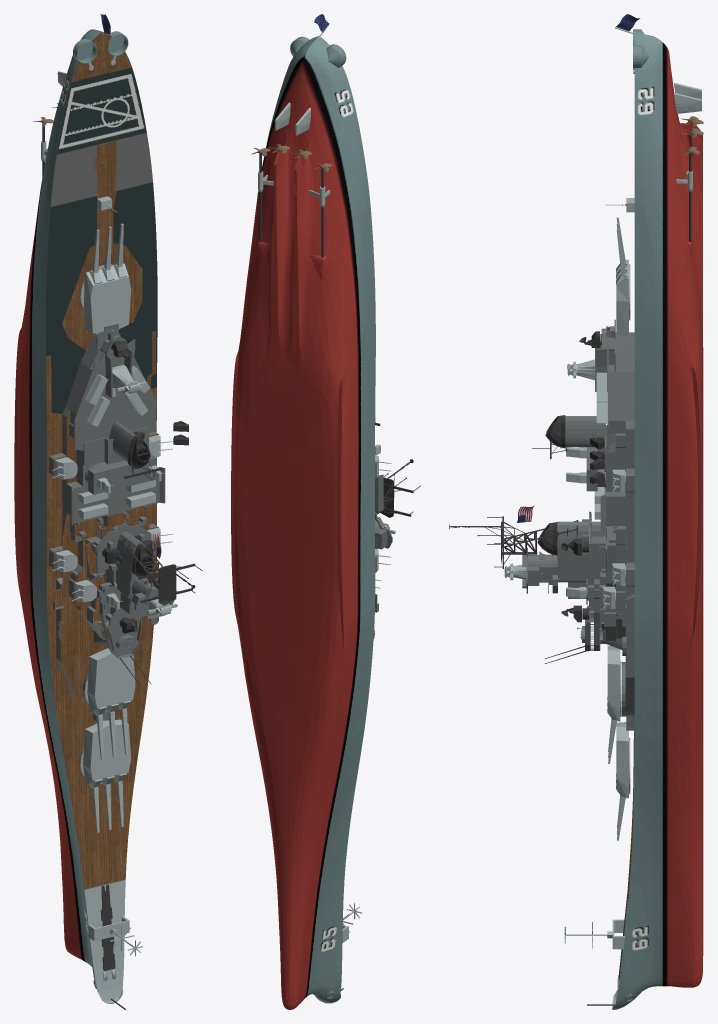
The model's file is battleship.obj.
The picture shows the model from 3 angles, left to right: view 1: azimuth 30°, elevation 25°; view 2: azimuth 150°, elevation 25°; view 3: azimuth 270°, elevation 25°; orthographic projection.
Parts seen in each view (by area): view 1: NCubHel, NCasco, NCubMad, NCastillo, nterr4, NCubiert, NCanCue04, NCanCue03, NCanCue2, Nestr01, NCanCan08, NCasLat1 (+12 smaller); view 2: NCasco, NBasCas01, NCasLat1, NCaLat, NCastillo, Nestr01; view 3: NCasco, NCastillo, NCaLat, NCanCue03, NCanCue2, Nestr01, NCanCue04.
Boxes of the visible parts, x1=… form: NCubHel: x1=46, y1=67, x2=157, y2=413; NCasco: x1=17, y1=29, x2=128, y2=1002; NCubMad: x1=46, y1=32, x2=156, y2=889; NCastillo: x1=49, y1=324, x2=174, y2=721; nterr4: x1=53, y1=505, x2=158, y2=696; NCubiert: x1=84, y1=880, x2=125, y2=1001; NCanCue04: x1=80, y1=263, x2=131, y2=333; NCanCue03: x1=84, y1=648, x2=135, y2=713; NCanCue2: x1=80, y1=719, x2=131, y2=785; Nestr01: x1=121, y1=536, x2=202, y2=605; NCanCan08: x1=89, y1=223, x2=126, y2=284; NCasLat1: x1=14, y1=328, x2=21, y2=597; NCasco: x1=234, y1=35, x2=375, y2=1009; NBasCas01: x1=271, y1=151, x2=300, y2=339; NCasLat1: x1=337, y1=377, x2=343, y2=649; NCaLat: x1=231, y1=352, x2=238, y2=623; NCastillo: x1=373, y1=447, x2=392, y2=638; Nestr01: x1=375, y1=473, x2=420, y2=517; NCasco: x1=612, y1=29, x2=703, y2=1009; NCastillo: x1=522, y1=325, x2=634, y2=730; NCaLat: x1=692, y1=366, x2=701, y2=639; NCanCue03: x1=607, y1=645, x2=621, y2=721; NCanCue2: x1=616, y1=722, x2=630, y2=798; Nestr01: x1=477, y1=516, x2=578, y2=568; NCanCue04: x1=616, y1=259, x2=630, y2=336.
Bounding box in the file's own units: 1435 × 10562 × 2451.
9 materials, 5 textured.
